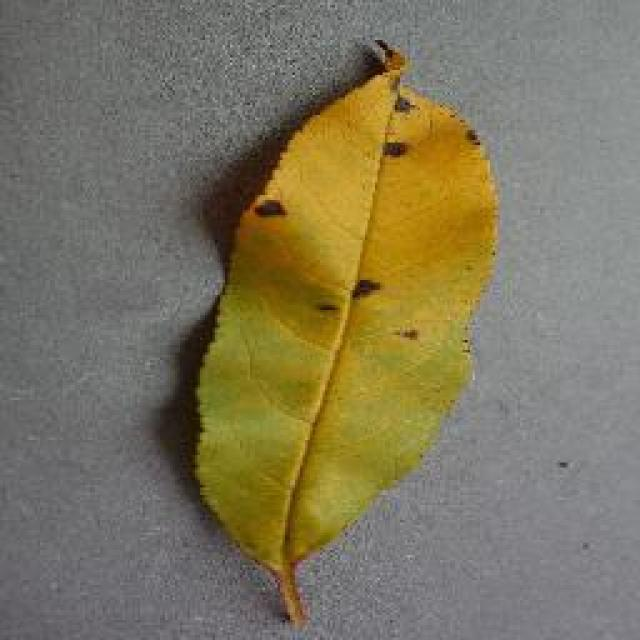Peach_Bacterial_Spot: (225, 60, 513, 418)
